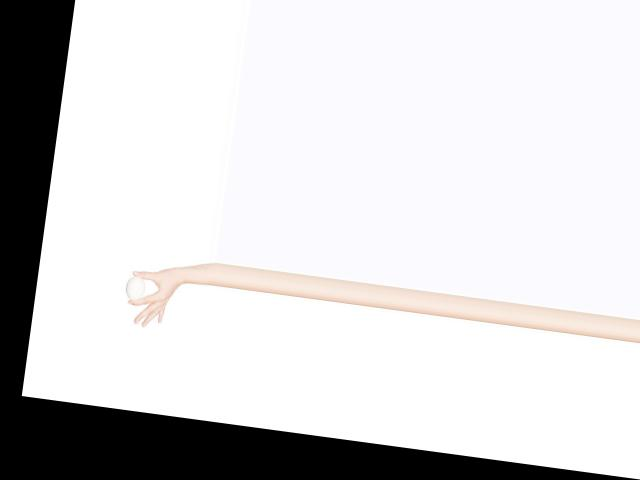egg: (123, 274, 146, 301)
